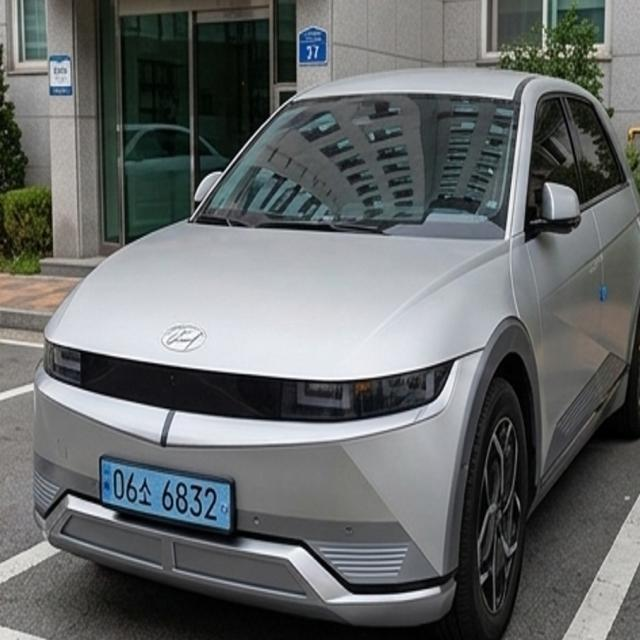car: (89, 445, 268, 547)
carev: (217, 467, 240, 537), (97, 452, 113, 511)
